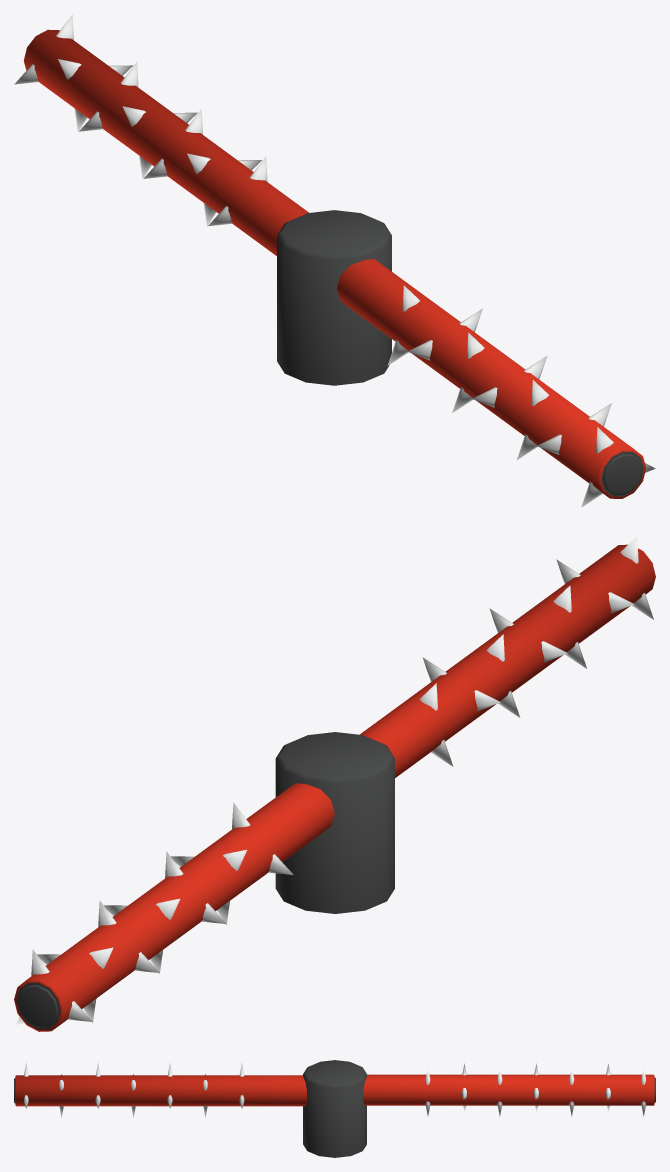
The model's file is Rotating_obstacle.glb.
3 renders of one model, top to bottom at view 1: azimuth 30°, elevation 25°; view 2: azimuth 150°, elevation 25°; view 3: azimuth 270°, elevation 25°, orthographic. The views are drawn at different scales.
Visible parts, largest first — view 1: Сarousel; view 2: Сarousel; view 3: Сarousel.
Boxes of the visible parts, box(x1,y1,x2,y2) form: Сarousel: box(14, 14, 655, 507); Сarousel: box(14, 536, 655, 1031); Сarousel: box(14, 1060, 655, 1157).
Size of the model in its own units: 1.93 by 2.61 by 19.32.
1 material, 1 textured.
